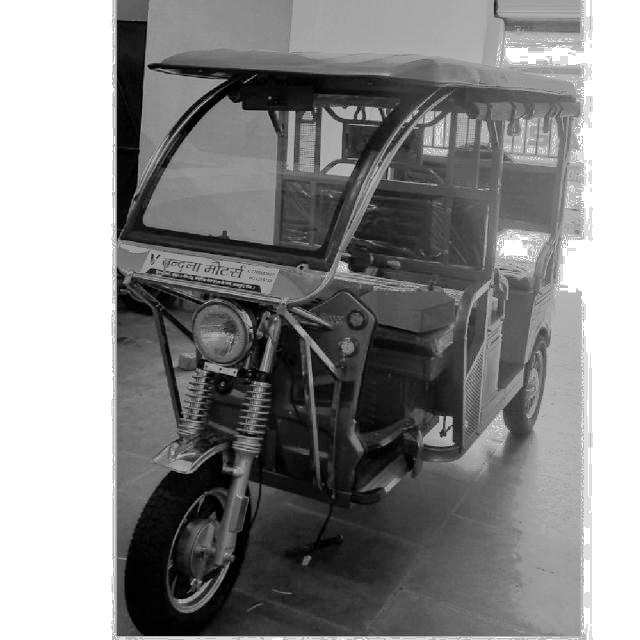Toto: (121, 48, 573, 626)
